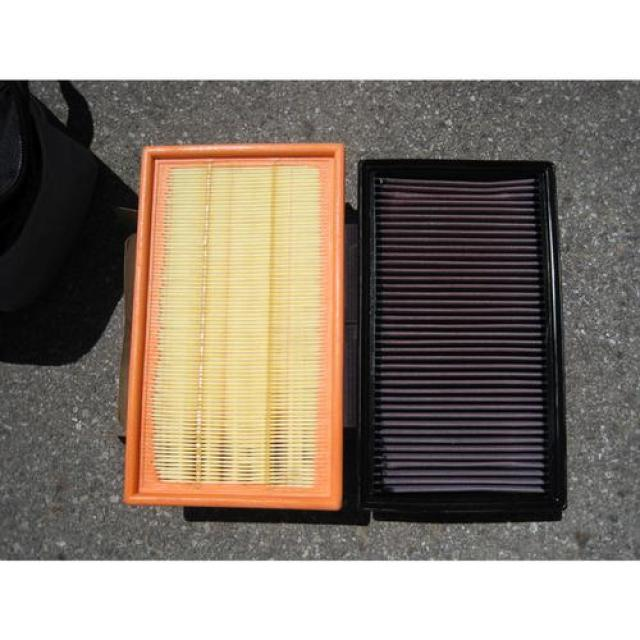air_filter: (118, 139, 350, 515), (356, 155, 570, 520)
